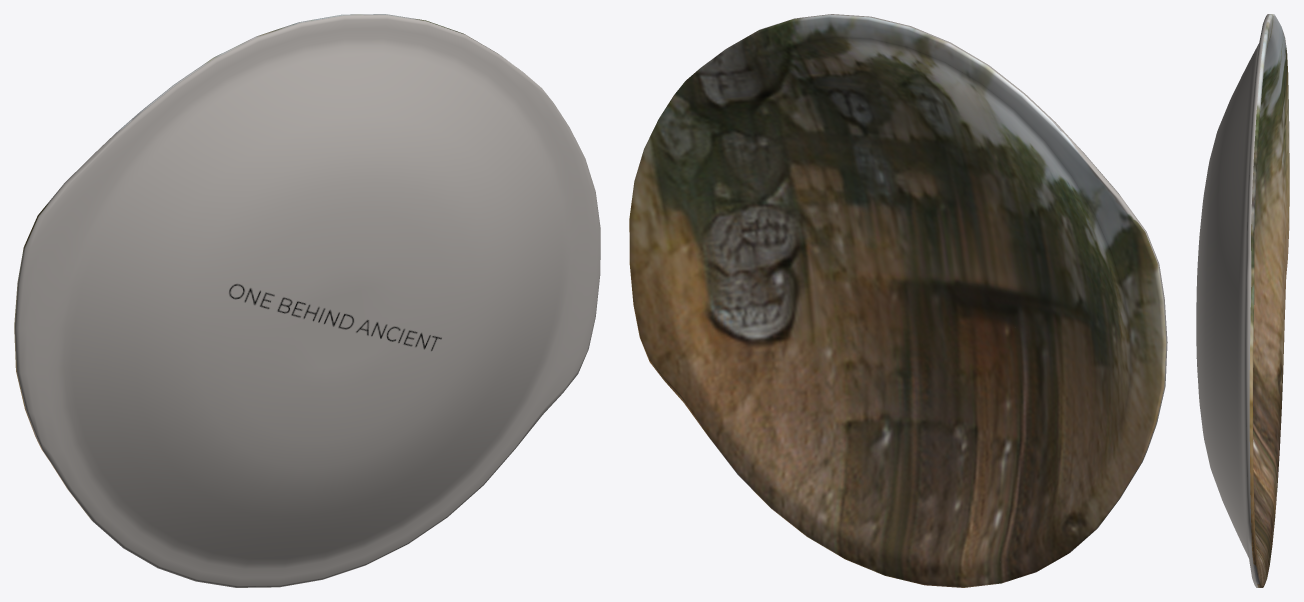
The picture shows the model from 3 angles, left to right: view 1: azimuth 30°, elevation 25°; view 2: azimuth 150°, elevation 25°; view 3: azimuth 270°, elevation 25°; orthographic projection. The views are drawn at different scales.
Visible parts, largest first — view 1: bluewhitered39:_bluewhitered_39_remodel1 group; view 2: bluewhitered39:_bluewhitered_39_remodel1 group; view 3: bluewhitered39:_bluewhitered_39_remodel1 group.
Boxes of the visible parts, x1,y1,x2,y2 form: bluewhitered39:_bluewhitered_39_remodel1 group: (14, 14, 600, 587); bluewhitered39:_bluewhitered_39_remodel1 group: (629, 14, 1167, 587); bluewhitered39:_bluewhitered_39_remodel1 group: (1196, 14, 1289, 587).
Bounding box in the file's own units: 8.8 × 8.37 × 1.36.
1 material, 1 textured.
